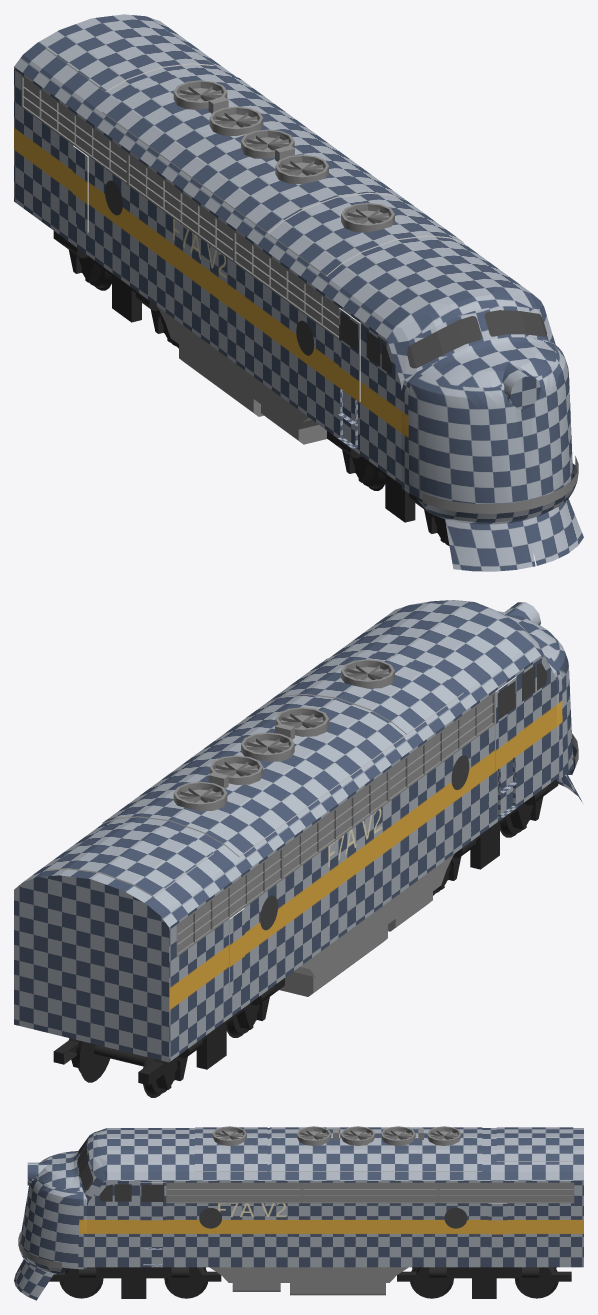
File: f7a-v3-checker.dae
3 views of the same model, one above another, from view 1: azimuth 30°, elevation 25°; view 2: azimuth 150°, elevation 25°; view 3: azimuth 270°, elevation 25° (orthographic). The views are drawn at different scales.
Visible parts, largest first — view 1: body_half (×21), side-grid (×3), bogie-mechanism-half (×4); view 2: body_half (×16), side-grid (×3), bogie-mechanism-half (×4), fan (×3), wheel_half; view 3: body_half (×22), side-grid (×6), bogie-mechanism-half (×4), fan (×5), wheel_half (×2).
Boxes of the visible parts, x1,y1,x2,y2 form: body_half (×21): (14, 14, 583, 571); side-grid (×3): (22, 77, 338, 337); bogie-mechanism-half (×4): (53, 231, 448, 542); body_half (×16): (14, 600, 572, 1062); side-grid (×3): (177, 694, 494, 954); bogie-mechanism-half (×4): (138, 779, 558, 1089); fan (×3): (173, 659, 394, 811); wheel_half: (76, 1041, 108, 1079); body_half (×22): (14, 1127, 583, 1300); side-grid (×6): (166, 1182, 574, 1203); bogie-mechanism-half (×4): (49, 1267, 571, 1298); fan (×5): (212, 1126, 461, 1145); wheel_half (×2): (166, 1267, 556, 1296).
Bounding box in the file's own units: 126 × 586 × 179.
Materials: 15 (11 with a texture image).
